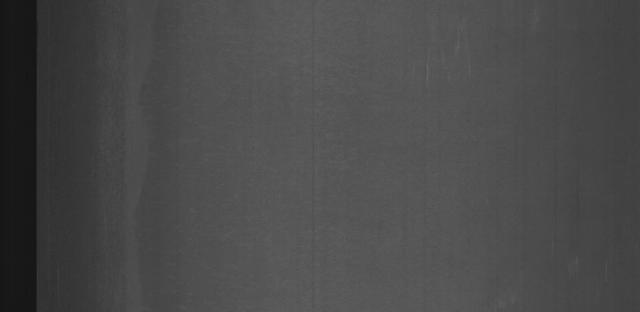silk_spot: (386, 27, 498, 97)
